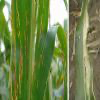Corn leaf blight: (37, 0, 68, 99), (10, 1, 32, 99), (74, 2, 96, 100)
